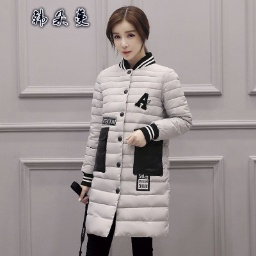face: (105, 4, 150, 62)
